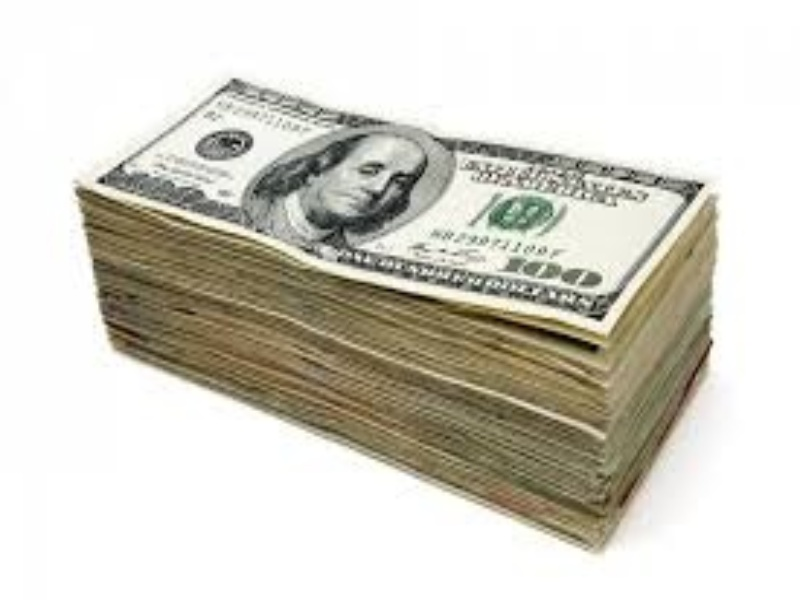cash: (73, 75, 716, 553)
